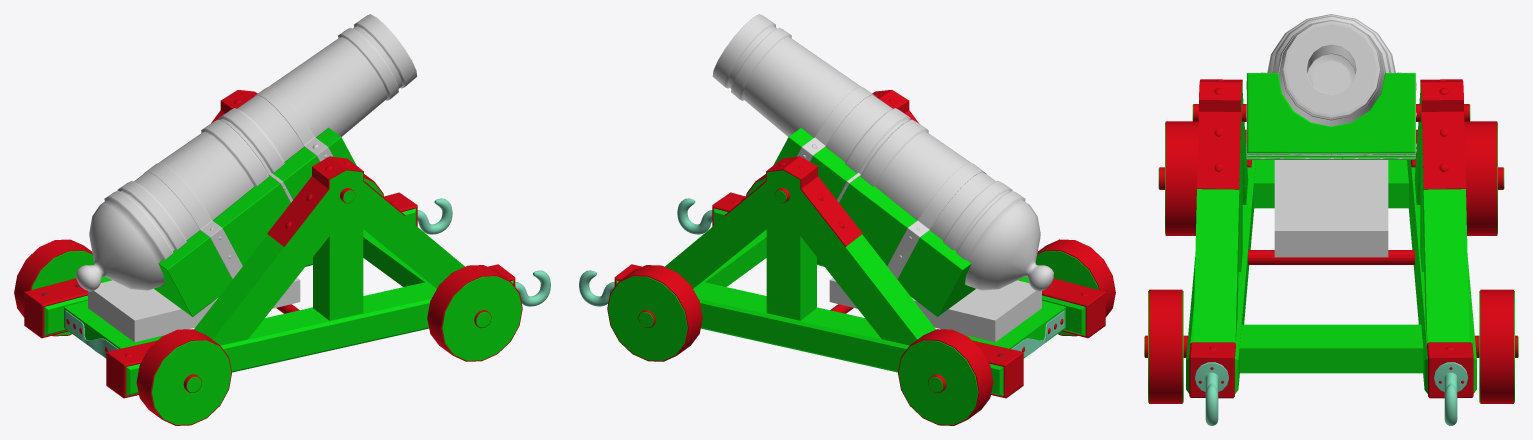
File: Old_mortar.dae
The picture shows the model from 3 angles, left to right: view 1: azimuth 30°, elevation 25°; view 2: azimuth 150°, elevation 25°; view 3: azimuth 270°, elevation 25°; orthographic projection. The views are drawn at different scales.
Parts seen in each view (by area): view 1: Mortar, Barrel, Rear_wheels, Wooden_pillow, Front_wheels, Metal_parts, Wooden_, Metal_brackets_for_barrel, Axis; view 2: Mortar, Barrel, Rear_wheels, Wooden_pillow, Front_wheels, Metal_parts, Wooden_, Metal_brackets_for_barrel, Axis; view 3: Mortar, Wooden_, Wooden_pillow, Barrel, Front_wheels, Metal_parts, Rear_wheels, Metal_brackets_for_barrel, Axis, Rivets.
Part boxes in pixels (left/top/right/bottom): Mortar: left=44, top=90, right=513, bottom=395; Barrel: left=76, top=14, right=417, bottom=291; Rear_wheels: left=14, top=239, right=231, bottom=425; Wooden_pillow: left=154, top=127, right=365, bottom=316; Front_wheels: left=364, top=174, right=522, bottom=361; Metal_parts: left=24, top=192, right=550, bottom=398; Wooden_: left=88, top=278, right=300, bottom=342; Metal_brackets_for_barrel: left=143, top=86, right=332, bottom=279; Axis: left=183, top=310, right=491, bottom=392; Mortar: left=616, top=90, right=1085, bottom=395; Barrel: left=712, top=14, right=1053, bottom=291; Rear_wheels: left=898, top=239, right=1115, bottom=425; Wooden_pillow: left=765, top=127, right=975, bottom=316; Front_wheels: left=607, top=174, right=765, bottom=361; Metal_parts: left=579, top=192, right=1105, bottom=398; Wooden_: left=829, top=278, right=1041, bottom=342; Metal_brackets_for_barrel: left=797, top=86, right=986, bottom=279; Axis: left=638, top=310, right=946, bottom=392; Mortar: left=1186, top=79, right=1476, bottom=393; Wooden_: left=1274, top=160, right=1388, bottom=257; Wooden_pillow: left=1192, top=73, right=1470, bottom=159; Barrel: left=1267, top=14, right=1395, bottom=126; Front_wheels: left=1148, top=289, right=1514, bottom=403; Metal_parts: left=1189, top=129, right=1473, bottom=425; Rear_wheels: left=1165, top=121, right=1497, bottom=235; Metal_brackets_for_barrel: left=1246, top=20, right=1415, bottom=158; Axis: left=1144, top=167, right=1518, bottom=357; Rivets: left=1198, top=79, right=1464, bottom=383.
Size of the model in its own units: 3.23 by 2.02 by 2.14.
